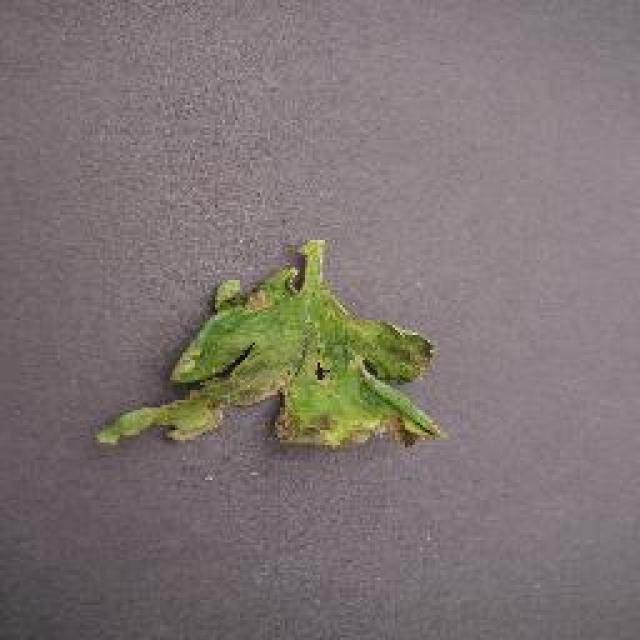Tomato___Late_blight: (92, 240, 445, 452)
